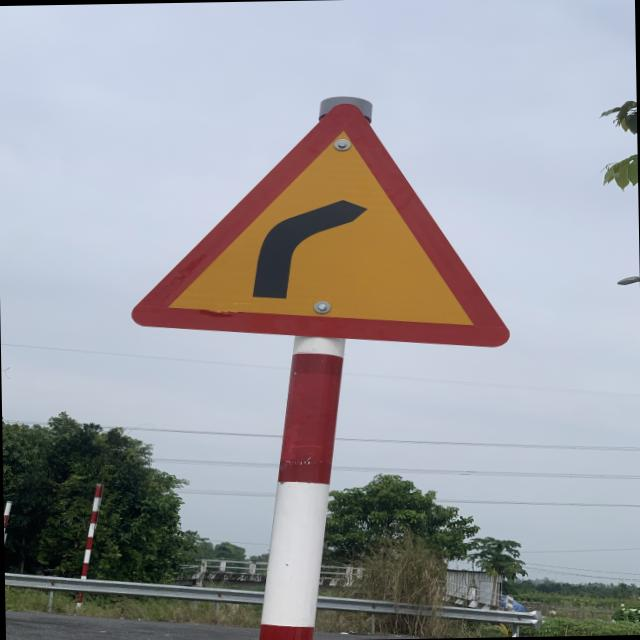Duong_Nguoi_Di_Bo_Cat_Ngang: (127, 100, 507, 352)
